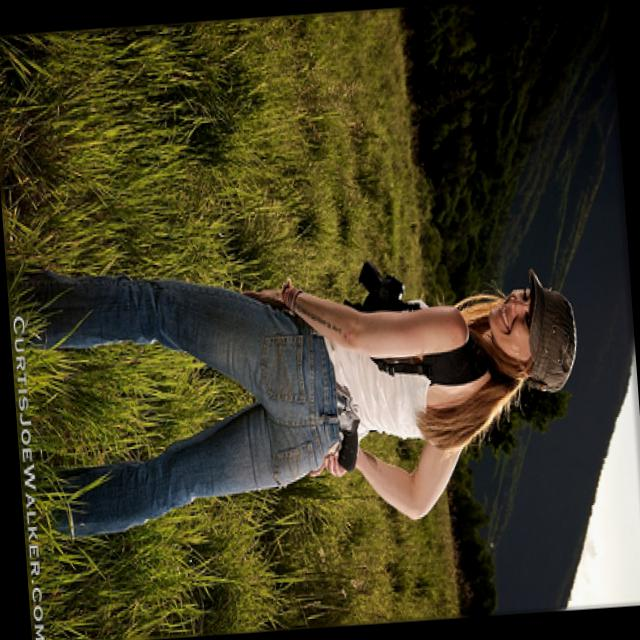handgun: (326, 363, 365, 471), (354, 252, 410, 316)
